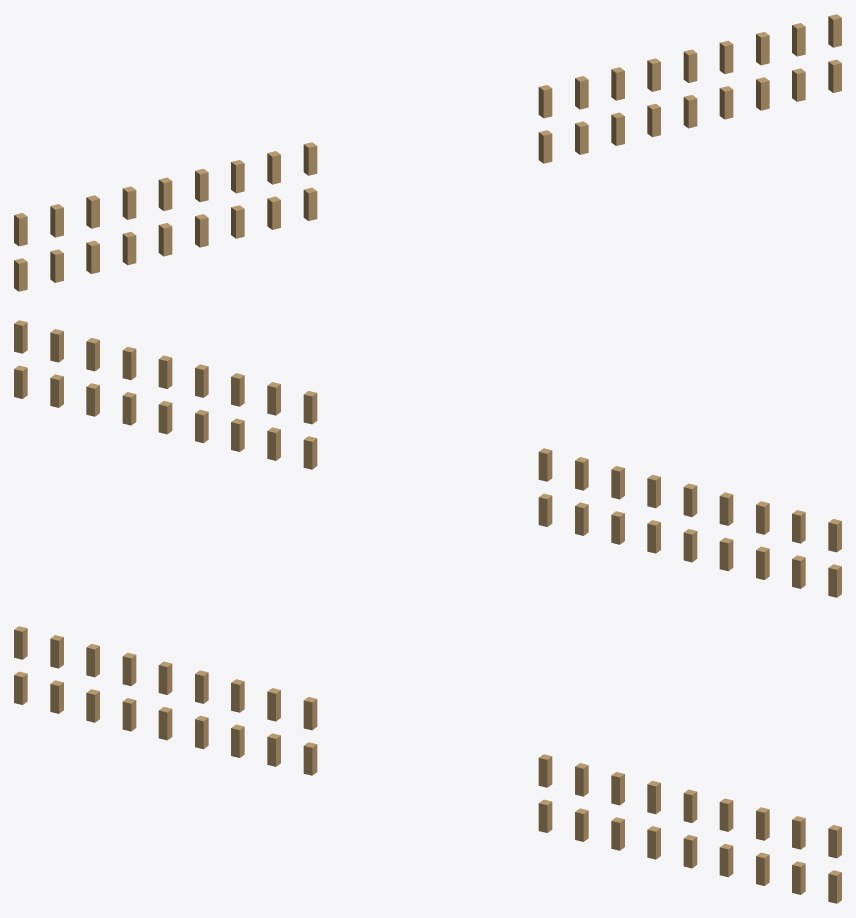
The model's file is FarArcade_Wall.fbx.
3 renders of one model, top to bottom at view 1: azimuth 30°, elevation 25°; view 2: azimuth 150°, elevation 25°; view 3: azimuth 330°, elevation 25°, orthographic.
Visible parts, largest first — view 1: FarPier-10_35.001; view 2: FarPier-10_35.001; view 3: FarPier-10_35.001.
Boxes of the visible parts, x1,y1,x2,y2 form: FarPier-10_35.001: (14,14,841,291); FarPier-10_35.001: (14,320,841,597); FarPier-10_35.001: (14,626,841,903).
Bounding box in the file's own units: 24700 × 2100 × 260.
